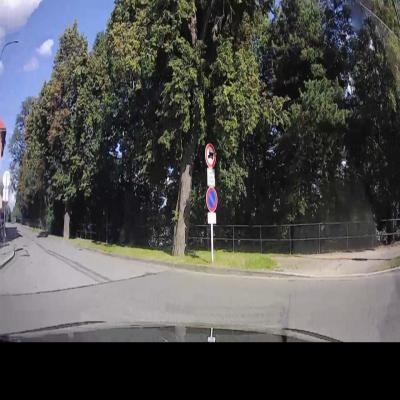clear-road: (0, 237, 400, 342)
